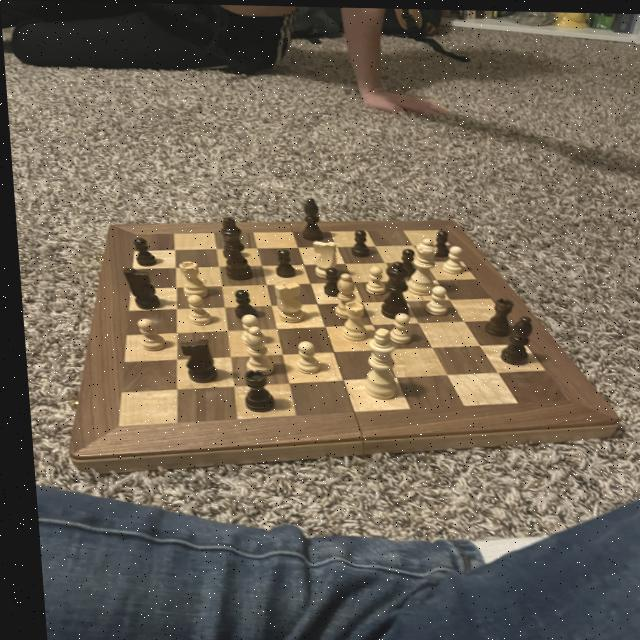bishop: (489, 312, 534, 366), (294, 194, 326, 241)
black-bishop: (213, 214, 255, 280)
black-king: (172, 336, 214, 384), (118, 266, 160, 310)
black-knight: (228, 287, 256, 320), (268, 246, 295, 278), (127, 236, 154, 267), (317, 265, 342, 295), (346, 228, 370, 257), (393, 246, 415, 272), (429, 227, 447, 258)
black-pawn: (372, 257, 412, 318)
black-queen: (477, 293, 516, 337), (236, 367, 273, 412)
black-rook: (235, 323, 270, 374), (327, 270, 356, 321)
white-bishop: (354, 325, 397, 401)
white-king: (267, 281, 305, 322), (307, 238, 341, 278)
white-knight: (131, 316, 165, 353), (287, 338, 317, 374), (383, 309, 413, 343), (419, 282, 448, 317), (179, 293, 210, 325), (357, 262, 386, 295), (234, 311, 259, 347), (435, 241, 463, 273)
white-pawn: (397, 235, 441, 295)
white-queen: (332, 299, 369, 341), (173, 258, 207, 299)
